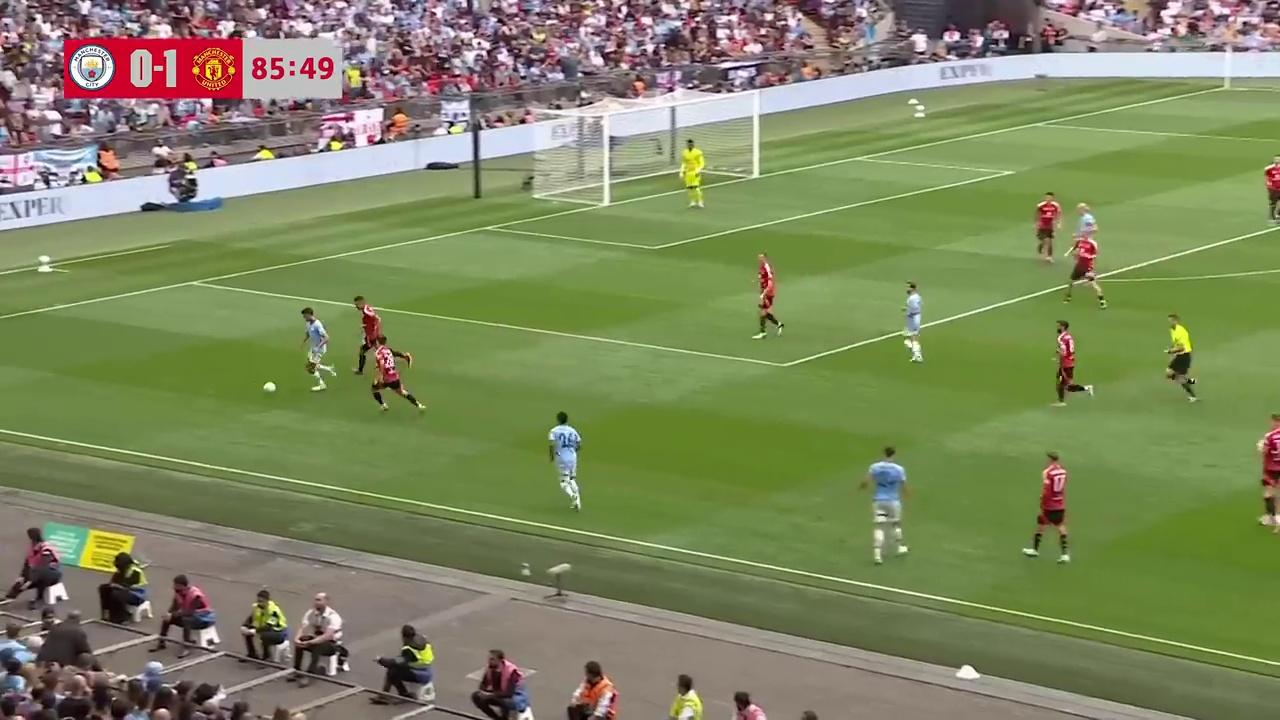ball: (261, 378, 277, 393)
player: (856, 446, 910, 563), (1023, 452, 1071, 562), (369, 340, 427, 414), (547, 411, 582, 511), (297, 309, 337, 391), (1063, 231, 1106, 307), (1256, 413, 1280, 533), (1052, 320, 1083, 406), (753, 252, 783, 338), (352, 295, 383, 366), (1034, 190, 1061, 265), (679, 139, 706, 208), (901, 280, 923, 363), (1074, 201, 1100, 266), (1263, 156, 1280, 223)
referee: (1163, 313, 1198, 402)
